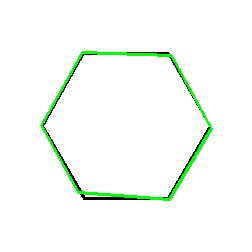line_segment: (41, 51, 212, 201)
